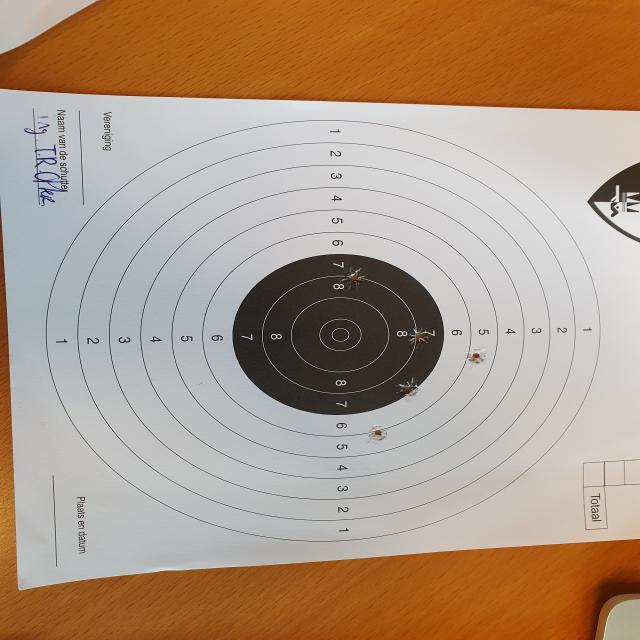6: (464, 346, 488, 369), (366, 424, 390, 444)
7: (395, 378, 424, 401)
8: (339, 268, 367, 290), (408, 327, 432, 350)
Target: (43, 122, 605, 539)
black_contour: (233, 254, 444, 416)
